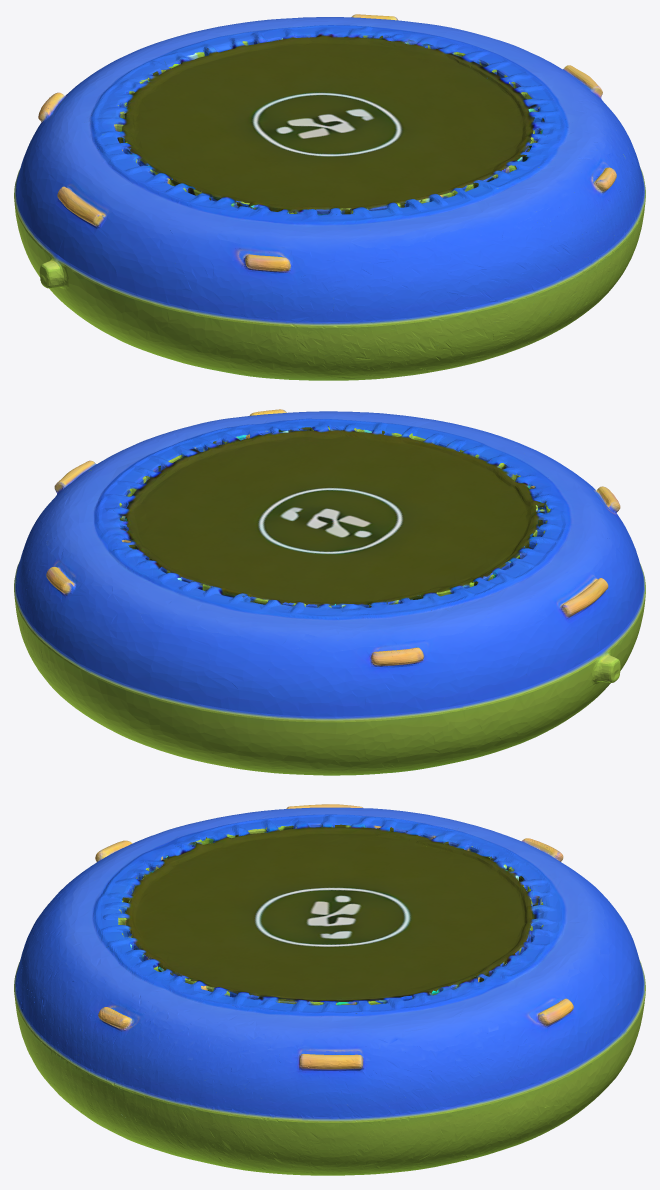
Rendered from wasser_trampolin.glb.
3 views of the same model, one above another, from view 1: azimuth 30°, elevation 25°; view 2: azimuth 150°, elevation 25°; view 3: azimuth 270°, elevation 25° (orthographic).
Parts seen in each view (by area): view 1: world; view 2: world; view 3: world.
Boxes of the visible parts, x1,y1,x2,y2 form: world: (14,14,645,380); world: (14,409,645,775); world: (14,804,645,1175).
Bounding box in the file's own units: 1.99 × 0.5295 × 1.93.
1 material, 1 textured.
